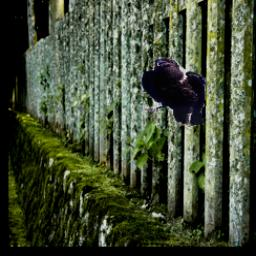Crow: (141, 57, 207, 127)
